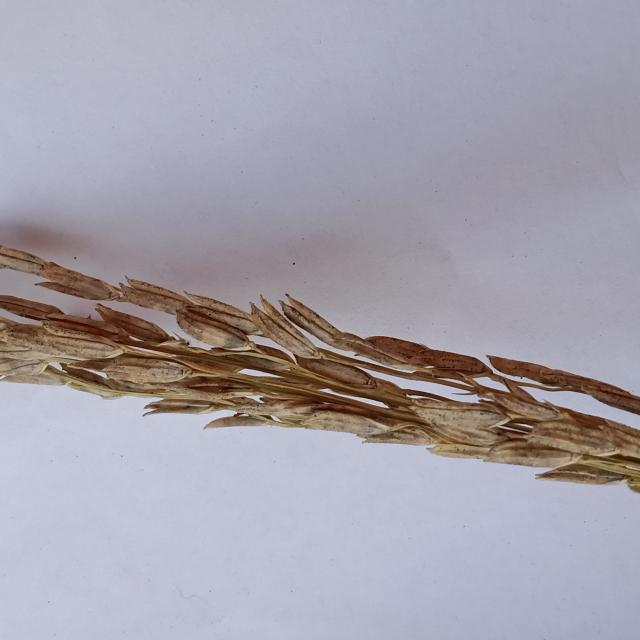Neck_Blast: (0, 252, 640, 491)
